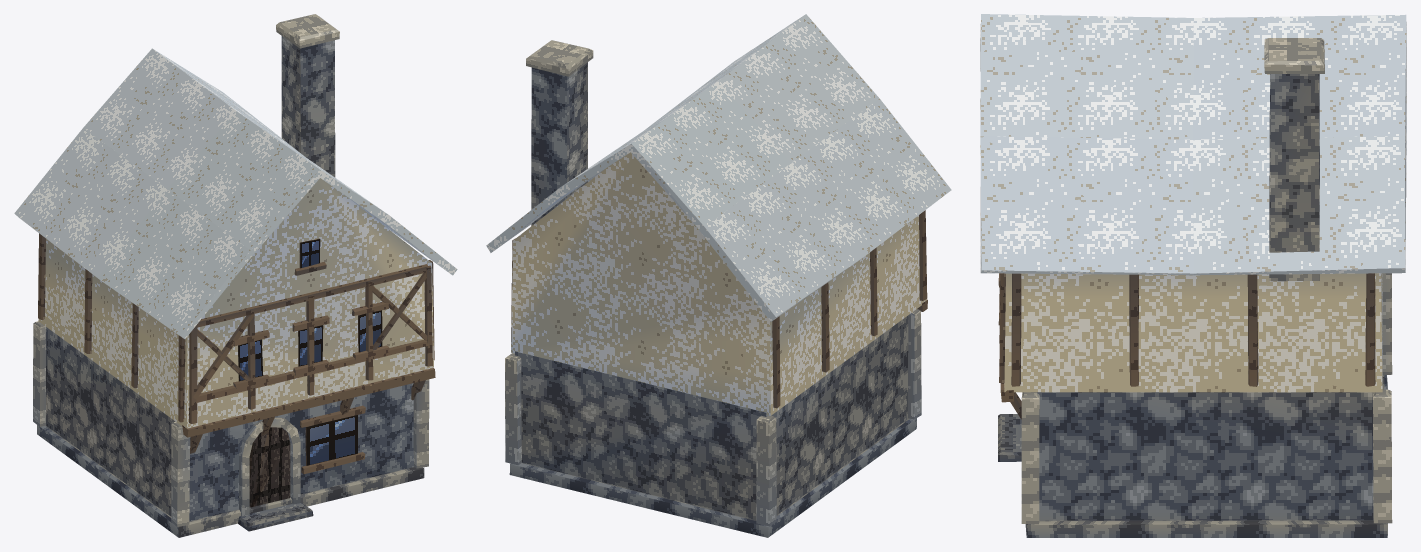
File: vlg.cottage__townhouse.glb
3 renders of one model, left to right at view 1: azimuth 30°, elevation 25°; view 2: azimuth 150°, elevation 25°; view 3: azimuth 270°, elevation 25°, orthographic. The views are drawn at different scales.
Visible parts, largest first — view 1: kit_walls, kit_roof, kit_frame, kit_fittings, kit_stonework; view 2: kit_walls, kit_roof, kit_stonework, kit_frame; view 3: kit_roof, kit_walls, kit_stonework, kit_frame, kit_fittings.
Part boxes in pixels (x1,y1,x2,y2): kit_walls: (38, 178, 433, 521); kit_roof: (14, 48, 457, 338); kit_frame: (33, 233, 435, 526); kit_fittings: (233, 238, 389, 531); kit_stonework: (37, 14, 424, 537); kit_walls: (511, 152, 926, 520); kit_roof: (486, 14, 951, 321); kit_stonework: (509, 40, 916, 537); kit_frame: (505, 210, 927, 526); kit_roof: (980, 14, 1406, 275); kit_walls: (1004, 273, 1382, 520); kit_stonework: (1025, 38, 1387, 537); kit_frame: (999, 273, 1392, 524); kit_fittings: (998, 273, 1021, 461).
Bounding box in the file's own units: 6.97 × 9.07 × 7.28.
8 materials, 8 textured.
